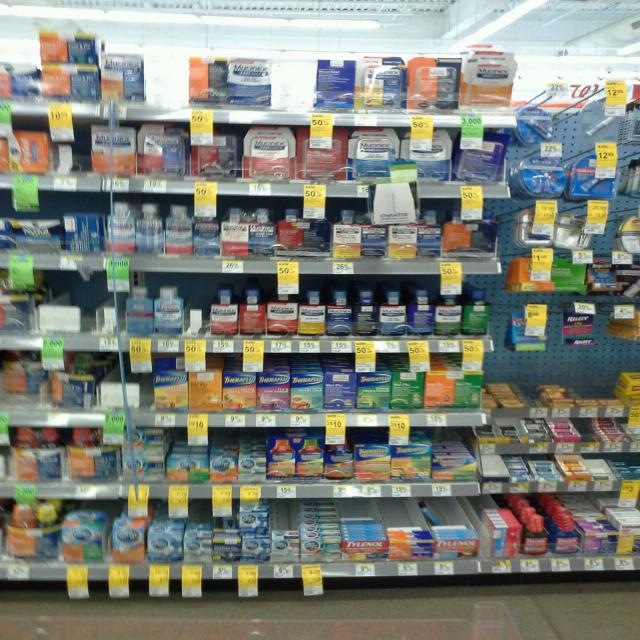unorganised: (277, 202, 328, 258), (4, 348, 46, 405), (458, 132, 504, 183), (520, 106, 556, 143), (552, 254, 586, 293), (417, 500, 456, 526)
